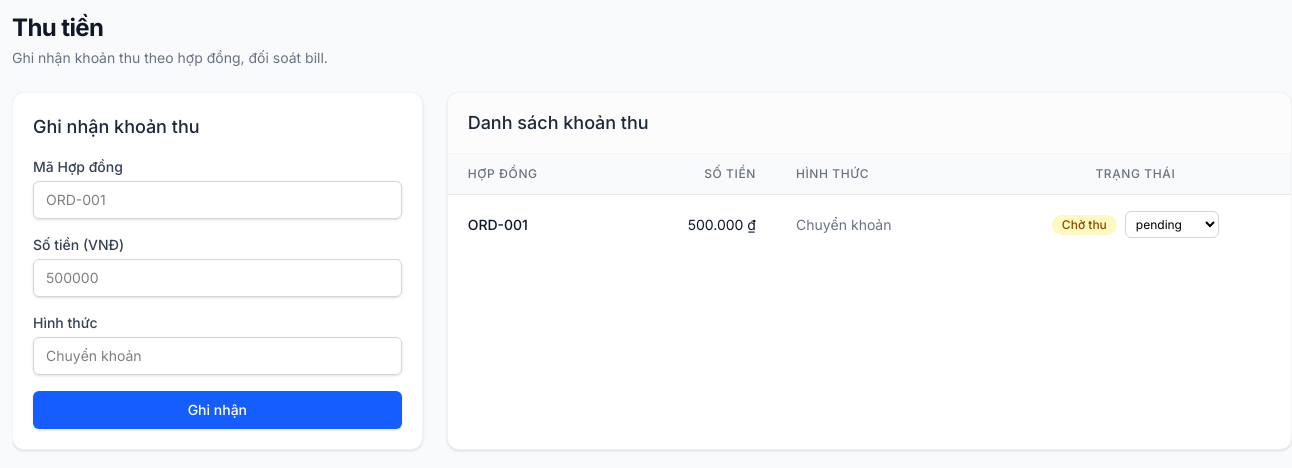
Test case: PaymentsPage › hiển thị danh sách khoản thu và tạo mới qua form
Expected: the text "ORD-001" is shown, x1=448 y1=194 x2=613 y2=254
Type "ORD-002" into the field labelled "Mã Hợp đồng". click: (217, 200)
box: x1=33 y1=181 x2=402 y2=219
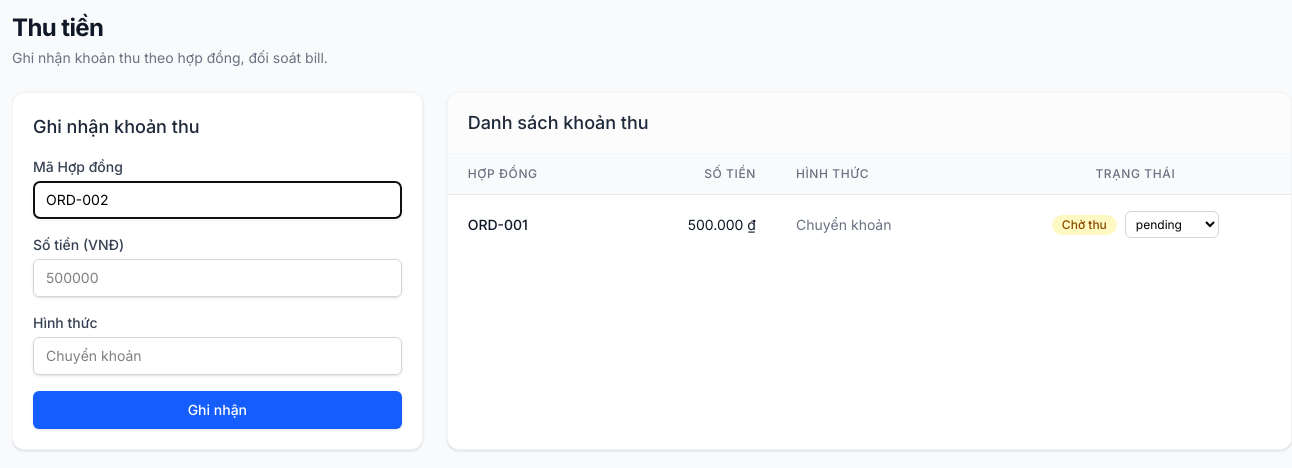
Type "700000" into the number field labelled "Số tiền (VNĐ)". click: (217, 278)
box: x1=33 y1=259 x2=402 y2=297
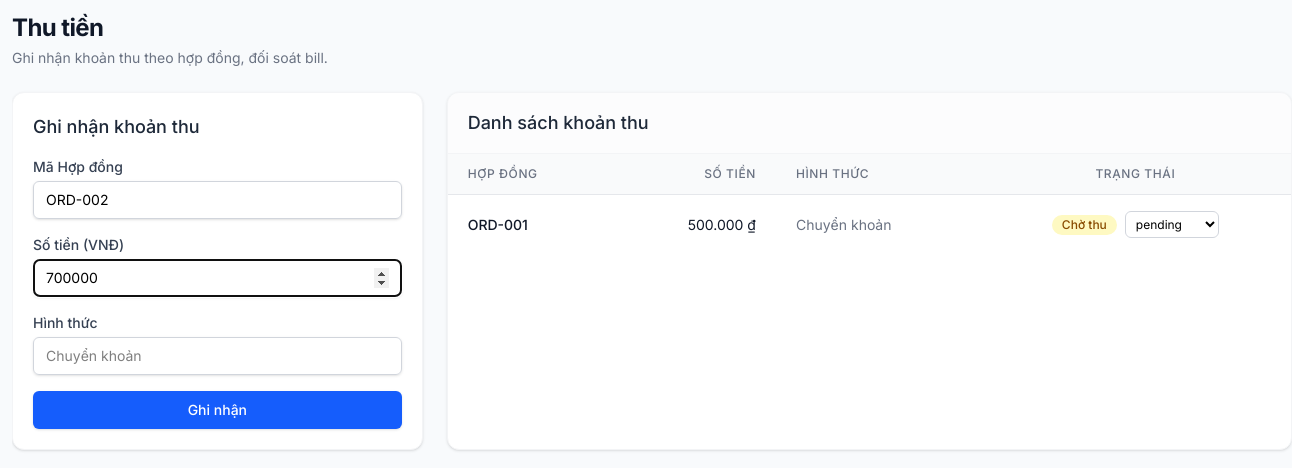
Click the button "Ghi nhận". click: (217, 410)
box: x1=33 y1=391 x2=402 y2=429
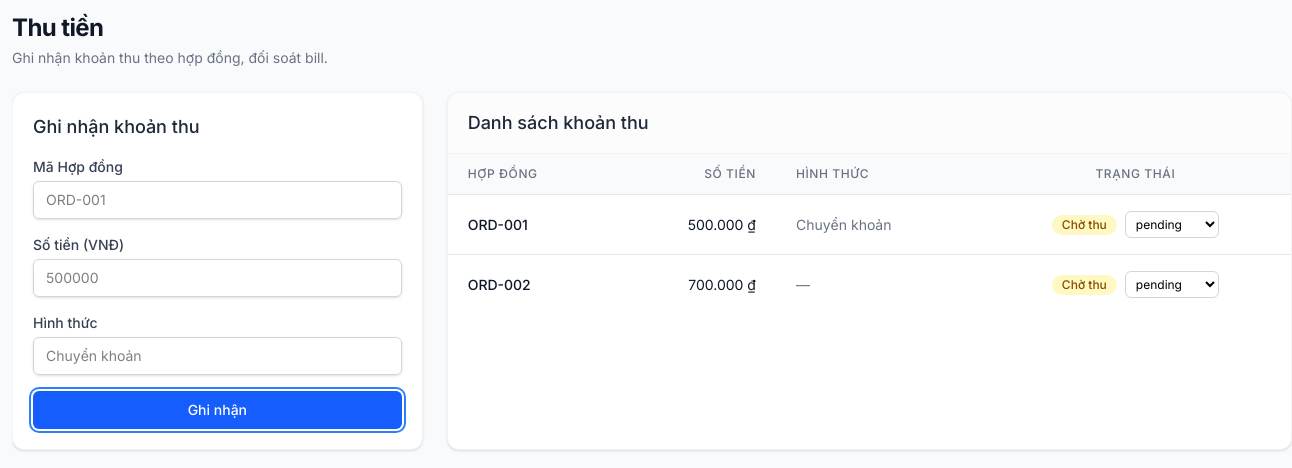
Result: the text "ORD-002" is shown at x1=448 y1=254 x2=613 y2=314
